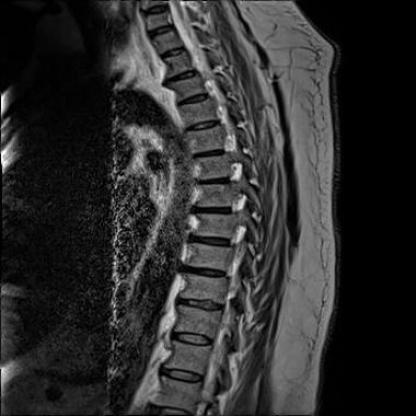Osteophytesrotation: (129, 1, 240, 416)
